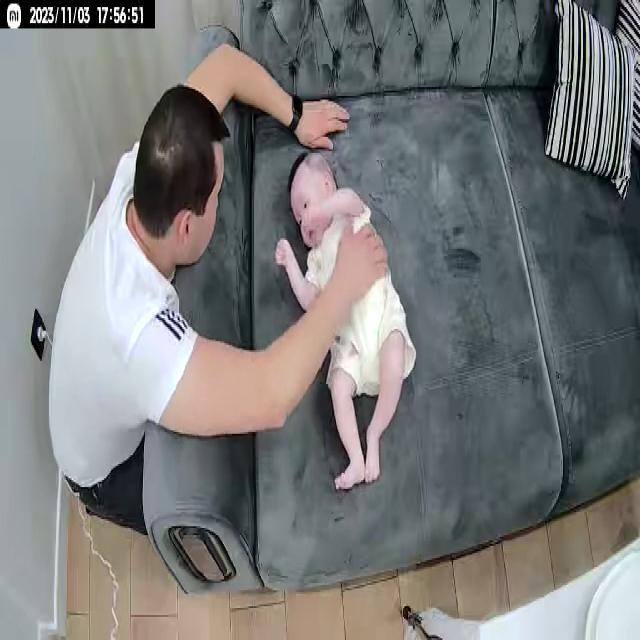baby: (274, 148, 416, 490)
